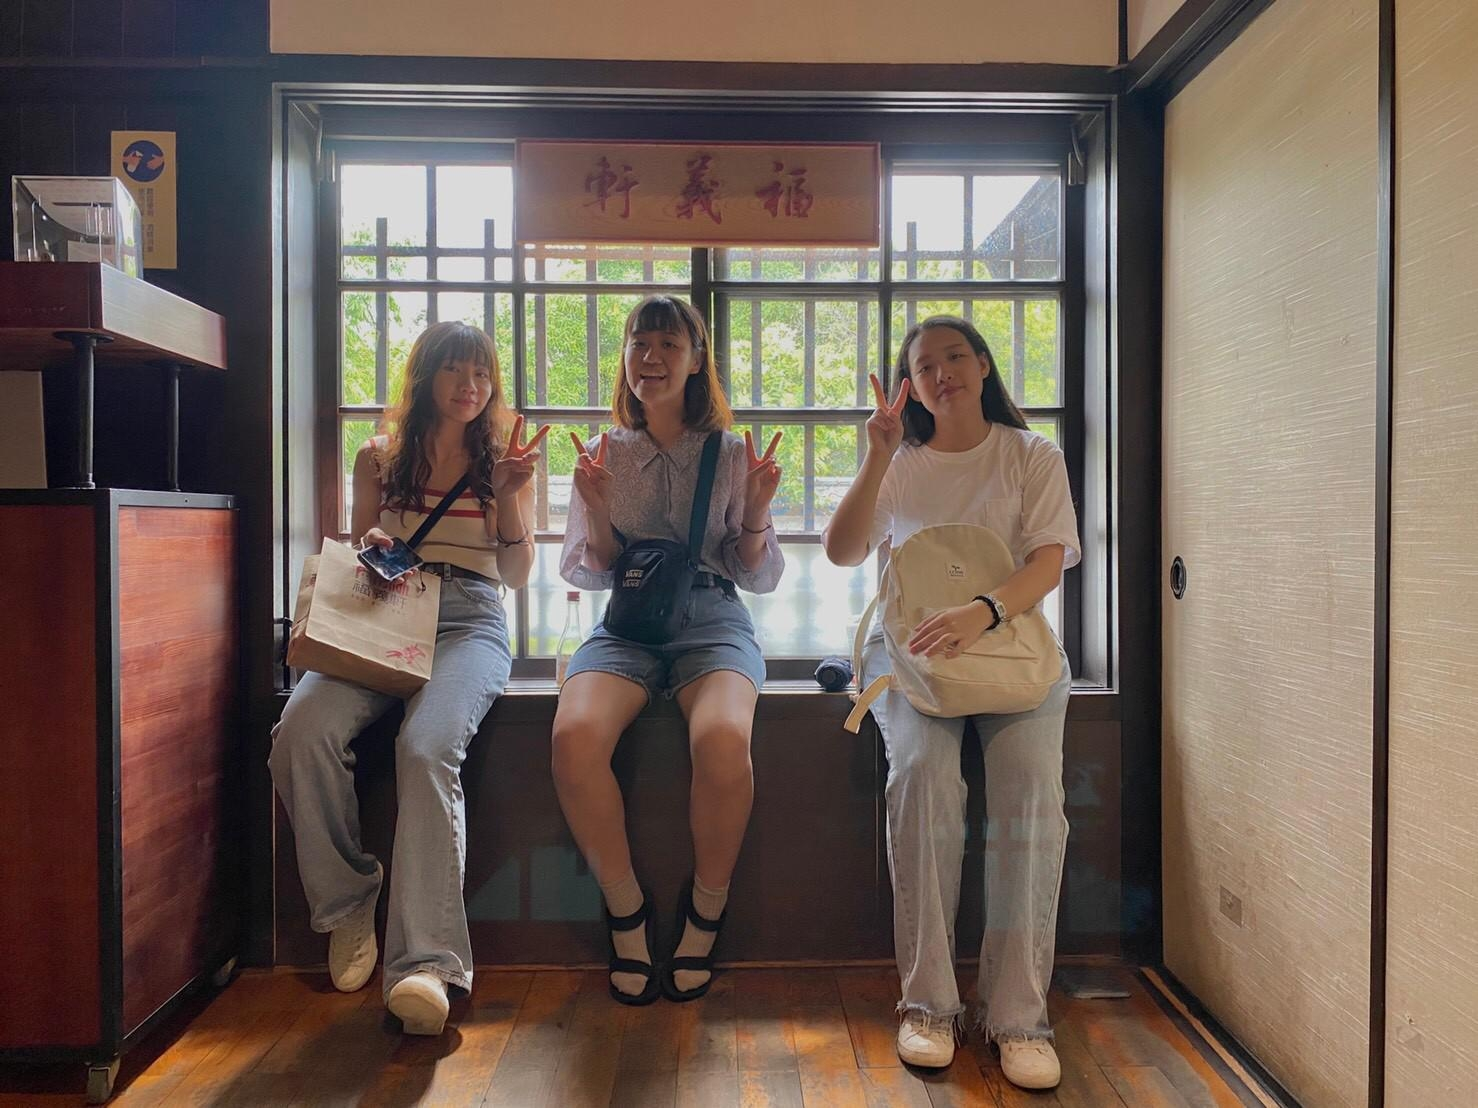people: (881, 332, 1071, 1088), (558, 321, 758, 988), (338, 327, 490, 1027)
